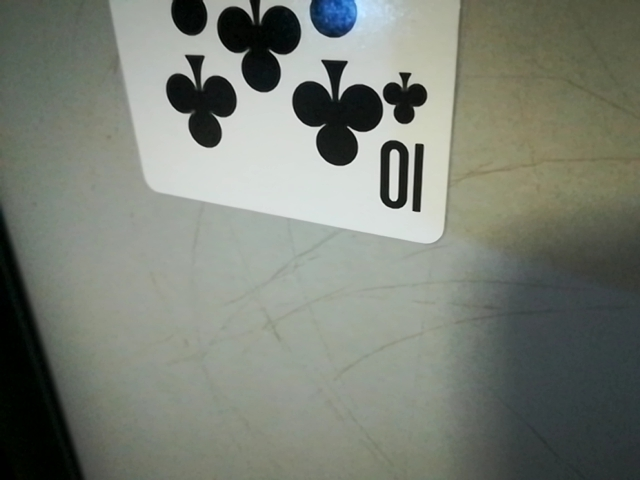mh 10: (373, 67, 440, 230)
